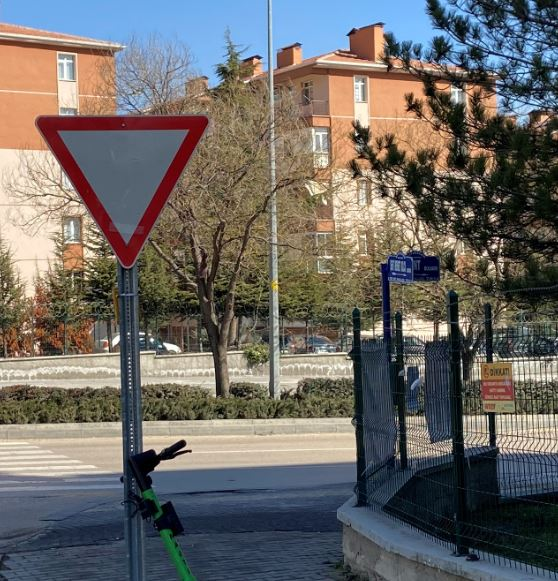Yol Ver: (35, 116, 209, 265)
